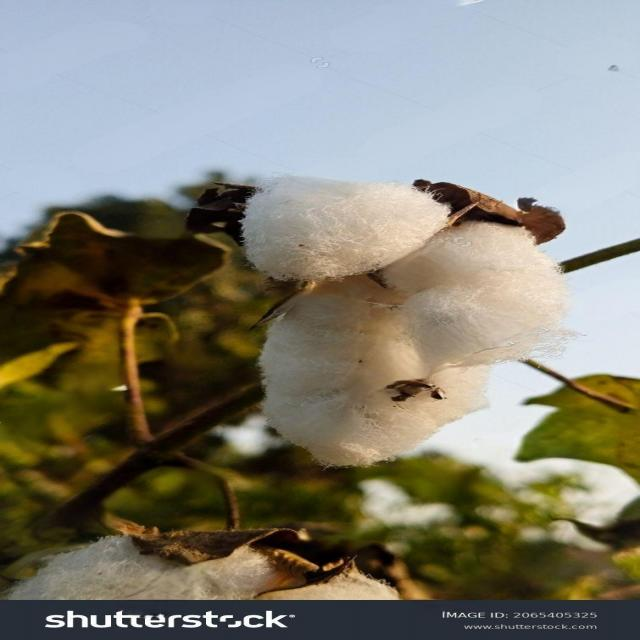Leaf: (226, 164, 607, 493)
